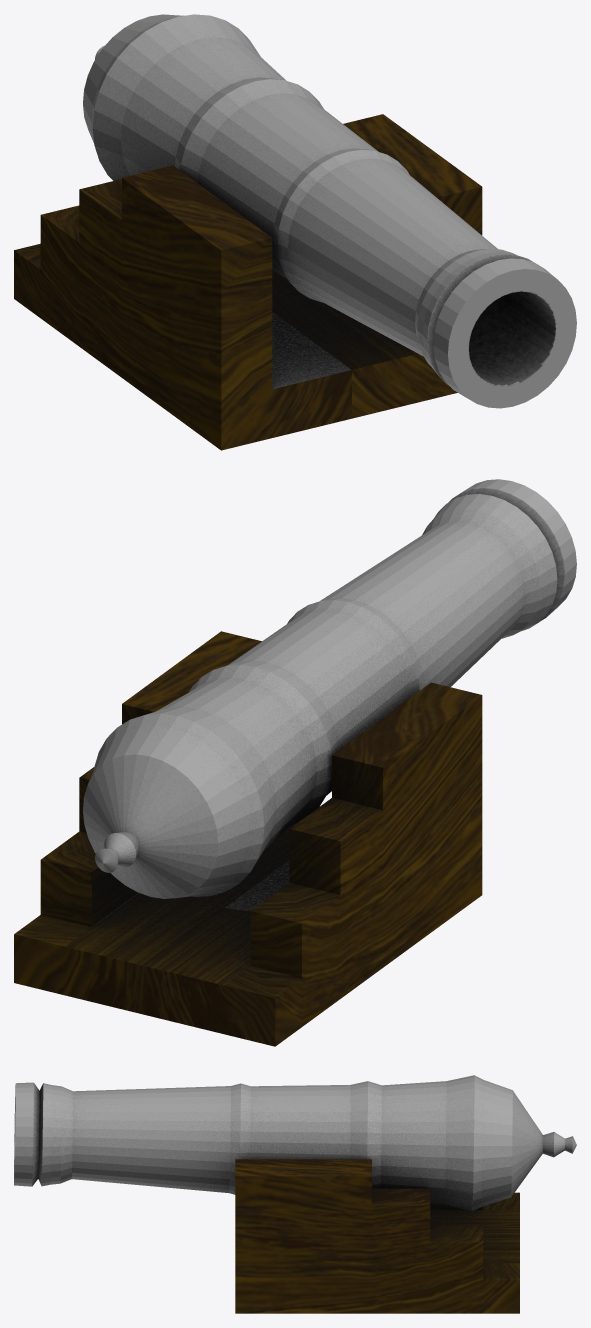
File: cannon.obj
The picture shows the model from 3 angles, top to bottom: view 1: azimuth 30°, elevation 25°; view 2: azimuth 150°, elevation 25°; view 3: azimuth 270°, elevation 25°; orthographic projection. The views are drawn at different scales.
Parts seen in each view (by area): view 1: Cylinder; view 2: Cylinder; view 3: Cylinder.
Boxes of the visible parts, x1,y1,x2,y2 form: Cylinder: (14,14,576,450); Cylinder: (14,479,576,1046); Cylinder: (14,1075,576,1313).
Bounding box in the file's own units: 1.09 × 1.1 × 2.97.
